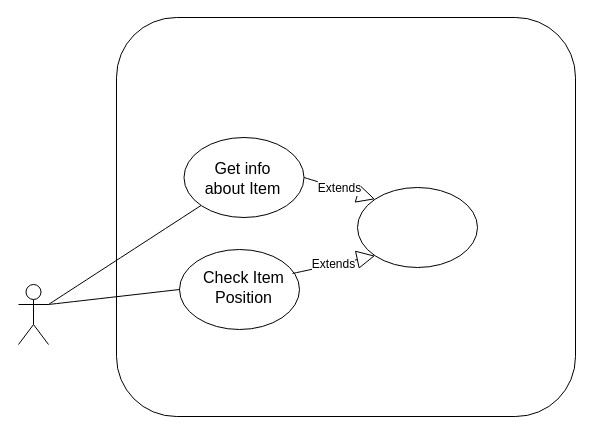
The diagram is 593 pixels wide and 434 high, and some of its shapes have lost their labels. The centre of each missing label's shape, as x and y in pixels:
Access database: point (417, 227)
Staff: point (33, 314)
